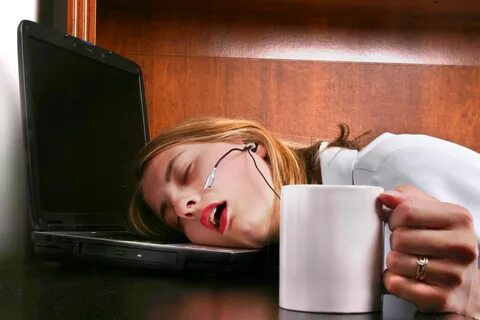sleep: (134, 116, 480, 303)
